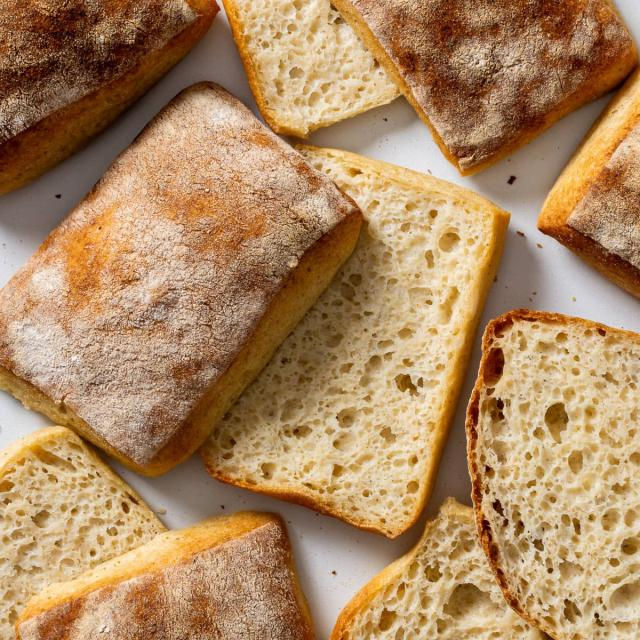Ciabatta: (0, 83, 361, 476)
